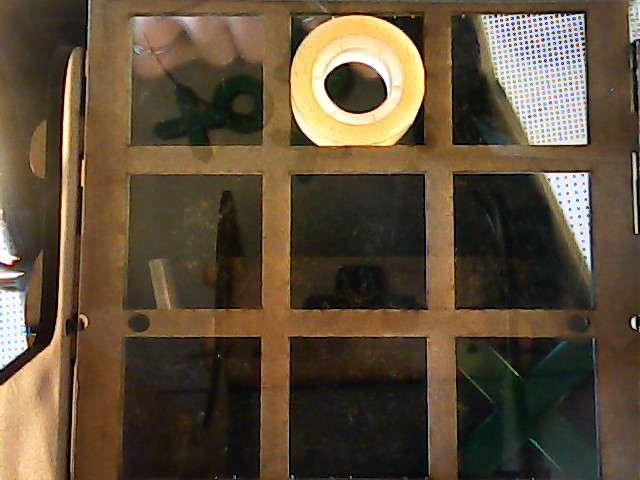X: (460, 339, 599, 478)
